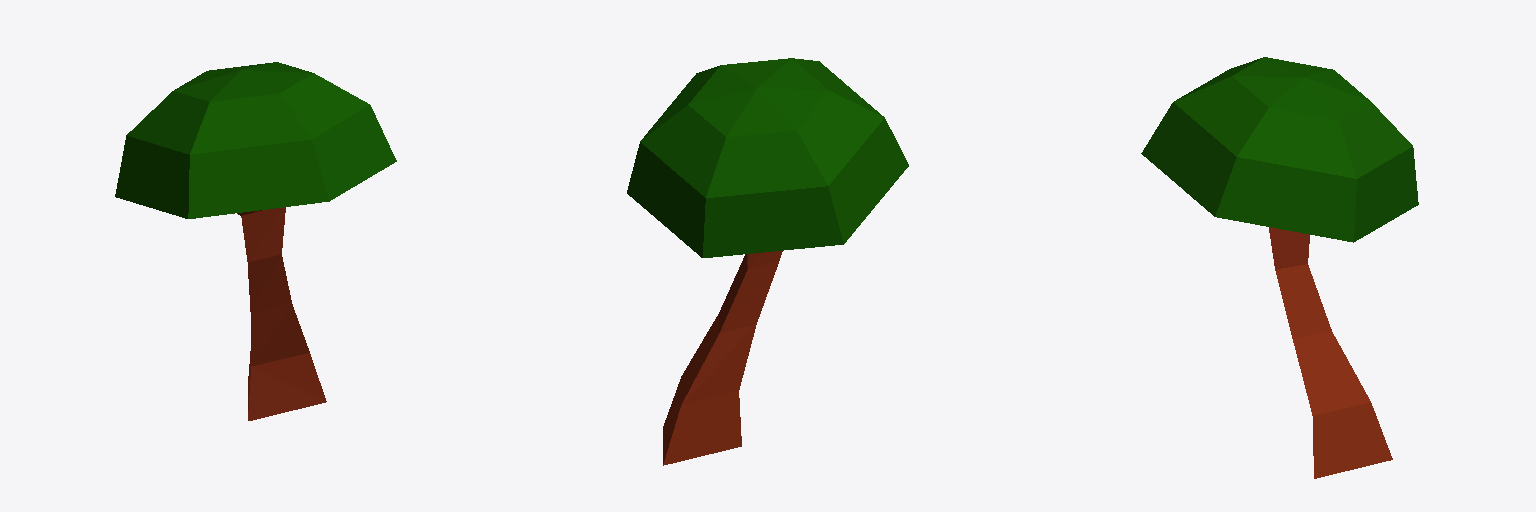
Rendered from mush2.obj.
3 renders of one model, left to right at view 1: azimuth 30°, elevation 25°; view 2: azimuth 150°, elevation 25°; view 3: azimuth 270°, elevation 25°, orthographic.
Visible parts, largest first — view 1: Cylinder.005; view 2: Cylinder.005; view 3: Cylinder.005.
Boxes of the visible parts, box(x1,y1,x2,y2) form: Cylinder.005: box(115, 62, 396, 420); Cylinder.005: box(627, 58, 908, 465); Cylinder.005: box(1141, 57, 1418, 478).
Size of the model in its own units: 1.1 by 1.74 by 1.21.